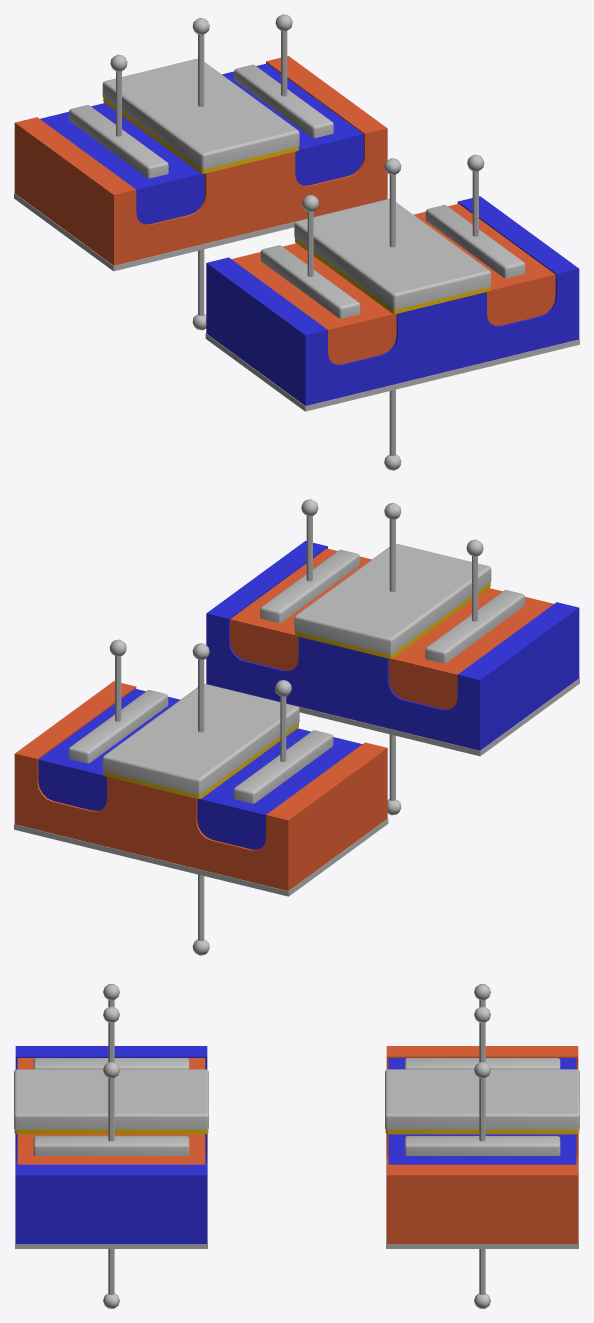
File: Cau truc MOSFET npn pnp.fbx
The picture shows the model from 3 angles, top to bottom: view 1: azimuth 30°, elevation 25°; view 2: azimuth 150°, elevation 25°; view 3: azimuth 270°, elevation 25°; orthographic projection. The views are drawn at different scales.
Visible parts, largest first — view 1: Cube.003, Cube, Cube.011, Cube.005, Cube.009, Cube.002, Cube.006, Cube.012, Cube.010, Cube.013, Cube.007, Cube.004 (+2 smaller); view 2: Cube, Cube.003, Cube.005, Cube.011, Cube.002, Cube.009, Cube.012, Cube.006, Cube.004, Cube.007, Cube.013, Cube.010 (+2 smaller); view 3: Cube, Cube.003, Cube.005, Cube.011, Cube.007, Cube.013, Cube.006, Cube.012, Cube.004, Cube.010, Cube.001, Cube.008.
Part boxes in pixels (bbox=[...]): Cube.003: bbox=[206, 196, 579, 405]; Cube: bbox=[14, 56, 387, 265]; Cube.011: bbox=[205, 158, 579, 470]; Cube.005: bbox=[14, 18, 387, 330]; Cube.009: bbox=[231, 243, 396, 364]; Cube.002: bbox=[40, 103, 204, 224]; Cube.006: bbox=[222, 63, 363, 185]; Cube.012: bbox=[413, 203, 555, 325]; Cube.010: bbox=[260, 195, 360, 318]; Cube.013: bbox=[425, 154, 525, 278]; Cube.007: bbox=[234, 14, 333, 137]; Cube.004: bbox=[69, 54, 168, 178]; Cube: bbox=[14, 681, 387, 890]; Cube.003: bbox=[206, 541, 579, 750]; Cube.005: bbox=[14, 643, 388, 955]; Cube.011: bbox=[206, 503, 579, 815]; Cube.002: bbox=[197, 728, 362, 849]; Cube.009: bbox=[389, 588, 553, 709]; Cube.012: bbox=[230, 548, 371, 670]; Cube.006: bbox=[38, 688, 180, 810]; Cube.004: bbox=[233, 680, 333, 803]; Cube.007: bbox=[68, 639, 168, 763]; Cube.013: bbox=[260, 499, 359, 622]; Cube.010: bbox=[425, 539, 524, 663]; Cube: bbox=[386, 1046, 578, 1243]; Cube.003: bbox=[15, 1046, 207, 1243]; Cube.005: bbox=[385, 1006, 579, 1308]; Cube.011: bbox=[14, 1006, 208, 1308]; Cube.007: bbox=[404, 1062, 560, 1155]; Cube.013: bbox=[33, 1062, 189, 1155]; Cube.006: bbox=[388, 1134, 576, 1164]; Cube.012: bbox=[17, 1134, 205, 1164]; Cube.004: bbox=[404, 984, 560, 1069]; Cube.010: bbox=[33, 984, 189, 1069]; Cube.001: bbox=[385, 1129, 579, 1134]; Cube.008: bbox=[14, 1129, 208, 1134].
Bounding box in the file's own units: 800 × 866 × 1475.
